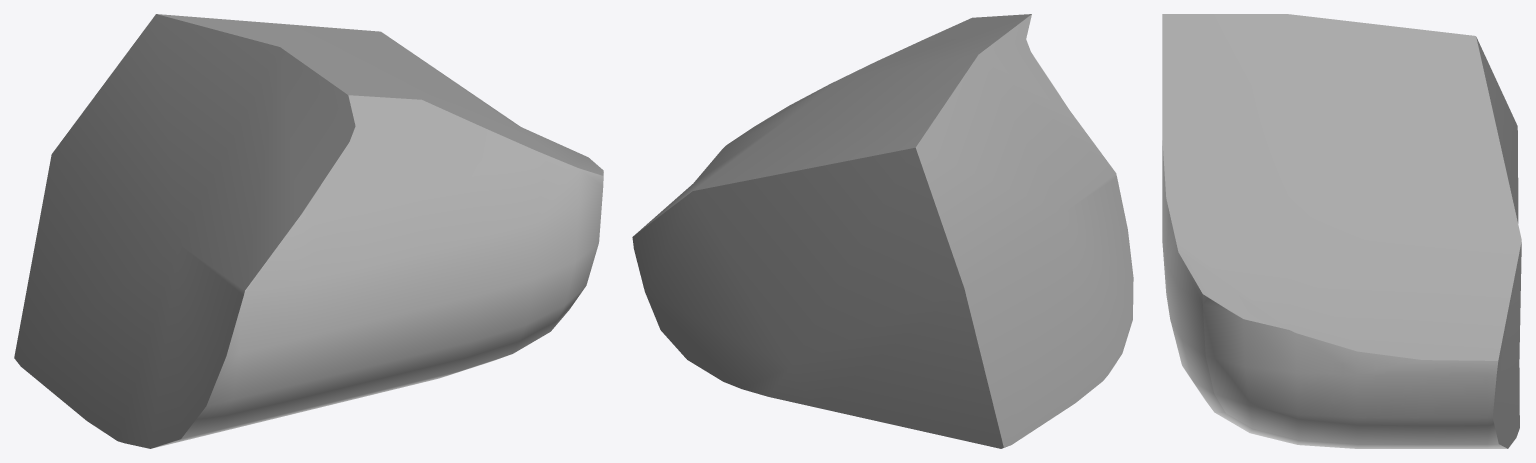
File: Happy_Box3.fbx
3 renders of one model, left to right at view 1: azimuth 30°, elevation 25°; view 2: azimuth 150°, elevation 25°; view 3: azimuth 270°, elevation 25°, orthographic. The views are drawn at different scales.
Parts seen in each view (by area): view 1: Happy_Box3; view 2: Happy_Box3; view 3: Happy_Box3.
Boxes of the visible parts, box(x1,y1,x2,y2) form: Happy_Box3: box(14, 14, 603, 448); Happy_Box3: box(632, 14, 1133, 448); Happy_Box3: box(1162, 14, 1521, 448).
Size of the model in its own units: 33.1 by 24.41 by 23.37.
2 materials, 1 textured.
